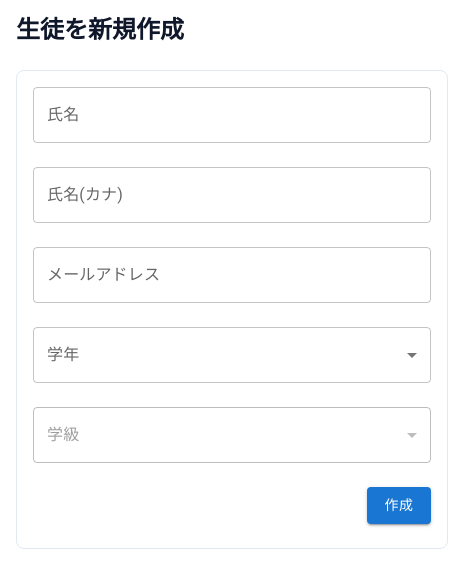
it: CreateStudent Presenter › 担当学年制限で学年が1つだけの場合はその学年のみ選択できる
Press the mouse on the dropdown named "学年" next to "学年" at x=232, y=355, box [33, 327, 431, 383]
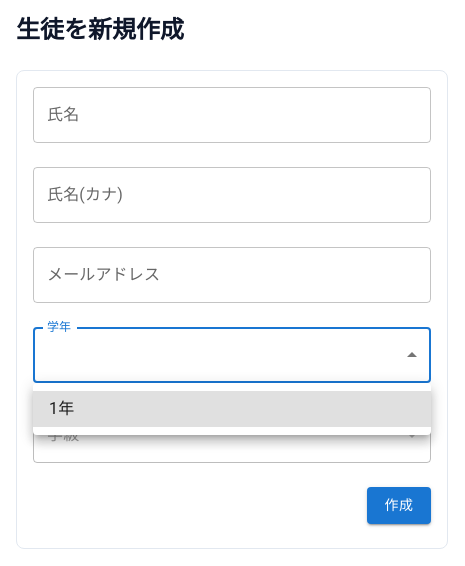
Expected: the option "1年" is shown, [33, 391, 431, 427]
